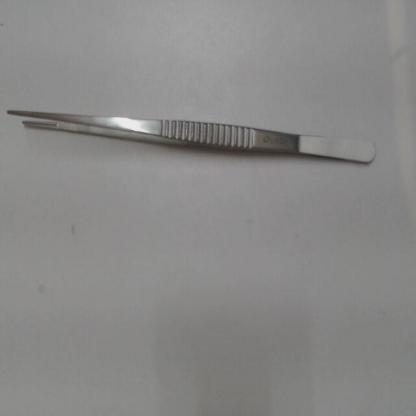DeBakey Dissector: (4, 93, 382, 174)
